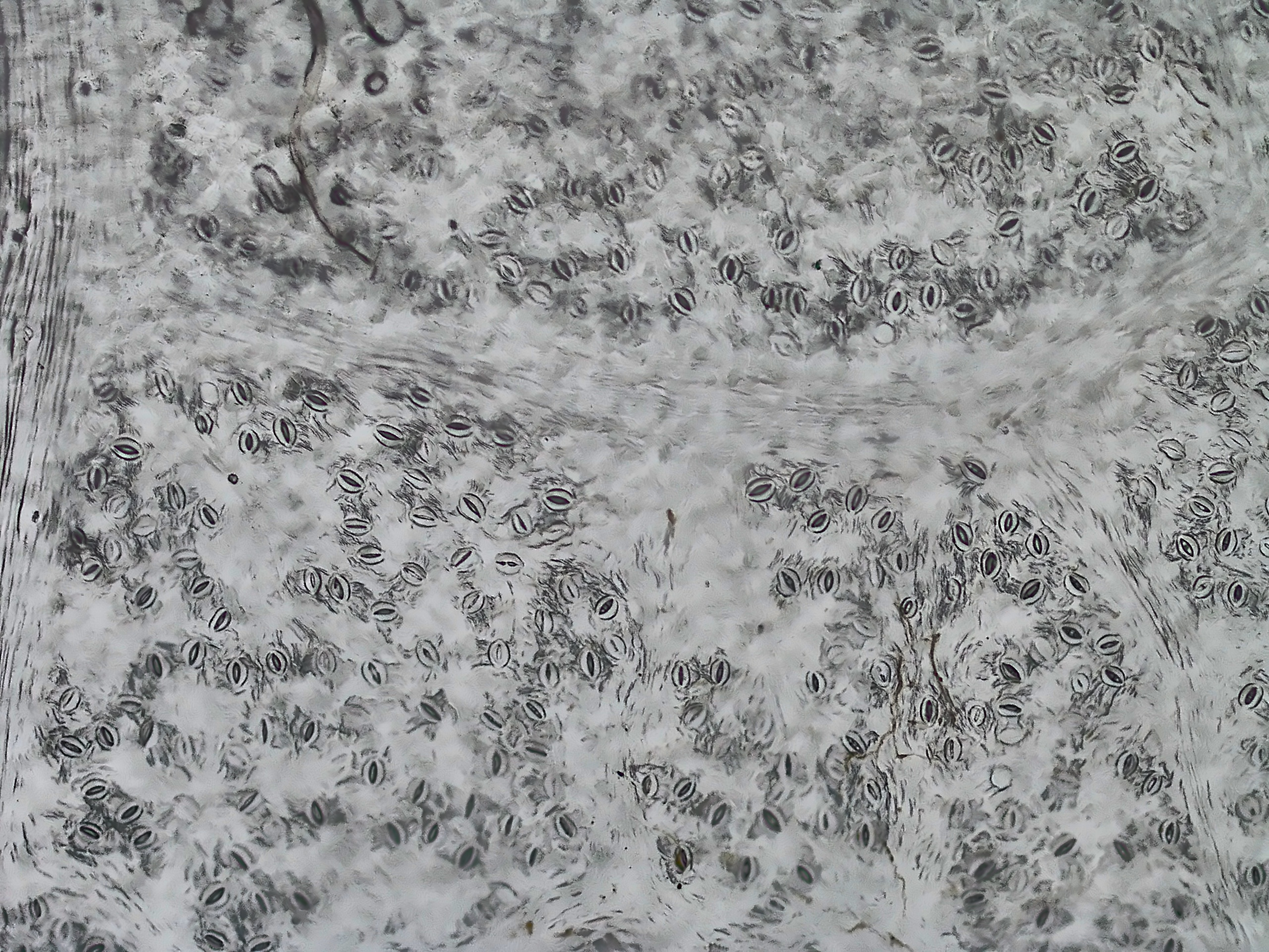stomata: (1017, 900, 1064, 930), (453, 491, 489, 523), (1023, 630, 1057, 663), (302, 798, 334, 831), (772, 565, 803, 599), (188, 212, 224, 241), (518, 108, 554, 137), (757, 803, 788, 836), (414, 693, 447, 724), (198, 62, 231, 92), (150, 366, 179, 400), (221, 747, 256, 775), (702, 798, 732, 830), (744, 475, 777, 504), (197, 880, 230, 909), (1049, 833, 1083, 861), (503, 185, 534, 215), (839, 728, 869, 759), (1215, 427, 1252, 452), (451, 840, 479, 873), (272, 415, 300, 448), (615, 678, 648, 706), (515, 739, 553, 763), (1000, 139, 1026, 174), (1219, 339, 1255, 364), (404, 776, 433, 807), (192, 929, 231, 952), (929, 134, 961, 162), (774, 224, 801, 257), (1024, 529, 1051, 562), (867, 657, 894, 690), (94, 720, 121, 753), (371, 421, 404, 448), (597, 632, 630, 659), (850, 192, 876, 226), (550, 252, 580, 281), (667, 286, 696, 316), (929, 238, 959, 267), (724, 64, 753, 94), (718, 253, 746, 284), (378, 817, 406, 848), (607, 240, 631, 276), (492, 549, 524, 576), (535, 656, 559, 692), (433, 273, 460, 305), (112, 799, 145, 825), (334, 468, 367, 494), (735, 853, 758, 890), (441, 414, 478, 437), (980, 82, 1014, 107), (473, 224, 507, 249), (413, 638, 442, 667), (407, 90, 436, 119), (247, 189, 276, 218), (996, 209, 1026, 237), (1173, 359, 1201, 389), (367, 599, 402, 623), (313, 648, 343, 676), (996, 658, 1027, 685), (397, 560, 429, 586), (826, 315, 849, 351), (540, 489, 576, 512), (1139, 29, 1164, 62), (951, 520, 976, 553), (78, 775, 111, 800), (285, 889, 318, 914), (950, 297, 984, 321), (911, 38, 945, 62), (671, 843, 695, 877), (487, 423, 521, 447), (416, 153, 440, 187), (1175, 533, 1203, 562), (249, 714, 277, 743), (325, 573, 352, 603), (863, 558, 890, 588), (958, 458, 989, 484), (843, 483, 869, 514), (55, 734, 86, 760), (181, 637, 207, 668), (952, 8, 978, 39), (941, 575, 967, 606), (884, 285, 909, 317), (979, 548, 1003, 581), (482, 743, 506, 776), (165, 480, 189, 513), (766, 335, 799, 359), (645, 71, 669, 104), (877, 4, 905, 32), (498, 256, 525, 285), (871, 505, 898, 534), (802, 669, 829, 698), (488, 637, 511, 671), (1062, 571, 1092, 597), (1110, 139, 1141, 164), (232, 793, 267, 815), (145, 650, 169, 682), (299, 388, 331, 412), (851, 272, 871, 310), (643, 157, 666, 190), (1207, 462, 1240, 485), (1055, 621, 1088, 644), (1031, 120, 1059, 147), (1236, 683, 1264, 710), (788, 466, 816, 493), (967, 856, 995, 883), (595, 593, 623, 620), (360, 758, 387, 786), (48, 920, 76, 947), (887, 243, 913, 272), (1102, 215, 1131, 241), (750, 713, 776, 742), (1077, 187, 1102, 217), (708, 657, 733, 687), (578, 649, 603, 679), (188, 573, 218, 598), (922, 280, 944, 314), (111, 691, 145, 713), (1115, 749, 1139, 780), (402, 387, 433, 411), (1001, 721, 1032, 745), (1155, 438, 1187, 461), (523, 844, 546, 876), (520, 697, 547, 724), (360, 659, 388, 685), (72, 821, 105, 843), (110, 437, 143, 459), (526, 281, 555, 306), (602, 181, 627, 210), (508, 507, 533, 536), (554, 813, 579, 842), (1098, 665, 1128, 689), (58, 684, 82, 714), (854, 614, 884, 638), (1215, 526, 1238, 557), (225, 657, 248, 688), (230, 374, 253, 405), (1003, 805, 1026, 836), (450, 544, 476, 571), (977, 263, 1002, 291), (1190, 575, 1218, 600), (996, 508, 1021, 536), (461, 588, 486, 616), (1000, 38, 1028, 63), (1188, 494, 1217, 518), (187, 411, 216, 435), (225, 846, 254, 870), (678, 703, 707, 727), (394, 269, 423, 293), (1095, 633, 1125, 656), (497, 810, 520, 840), (90, 381, 120, 404), (677, 227, 699, 258), (959, 888, 990, 910), (532, 607, 554, 638), (993, 697, 1027, 717), (263, 649, 289, 675), (1193, 314, 1220, 339), (1018, 578, 1045, 603), (1111, 837, 1136, 864), (131, 513, 158, 538), (600, 120, 627, 145), (659, 110, 686, 135), (705, 163, 730, 190), (669, 661, 693, 689), (171, 549, 203, 570), (777, 753, 801, 781), (473, 81, 497, 109), (817, 567, 840, 596), (238, 428, 261, 457), (401, 468, 436, 487), (787, 287, 809, 317), (27, 894, 47, 927), (407, 506, 438, 527), (1102, 2, 1133, 23), (636, 772, 661, 798), (557, 578, 583, 603), (135, 721, 161, 746), (1049, 57, 1074, 83), (479, 708, 506, 732), (208, 605, 232, 632), (133, 583, 157, 610), (246, 891, 270, 918), (673, 775, 696, 803), (1227, 580, 1249, 609), (420, 818, 442, 847), (918, 695, 939, 725), (301, 566, 322, 596), (807, 507, 831, 533), (130, 826, 158, 848), (412, 57, 446, 75), (1160, 817, 1181, 846), (238, 234, 259, 263), (106, 496, 135, 517), (717, 105, 746, 126), (738, 149, 767, 170), (357, 544, 387, 564), (172, 736, 197, 760), (1092, 54, 1116, 79), (1135, 476, 1159, 501), (338, 518, 373, 535), (889, 548, 911, 575), (100, 537, 122, 564), (160, 767, 193, 785), (942, 736, 963, 764), (861, 777, 882, 805), (856, 819, 876, 848), (299, 716, 319, 745), (541, 523, 570, 543), (619, 299, 639, 328), (198, 503, 222, 527), (80, 557, 104, 581), (1136, 175, 1159, 200), (1211, 390, 1236, 413), (793, 862, 816, 887), (815, 810, 837, 836), (1142, 770, 1165, 794), (966, 705, 989, 729), (375, 221, 399, 244), (330, 184, 353, 208), (973, 154, 992, 183), (1245, 863, 1267, 888), (68, 524, 90, 549), (87, 464, 108, 490), (799, 44, 820, 70), (269, 60, 297, 79), (1070, 671, 1092, 695), (565, 177, 585, 203), (679, 81, 702, 103), (1107, 85, 1135, 103), (91, 355, 118, 373), (761, 284, 781, 308), (1249, 294, 1269, 317), (897, 595, 917, 618), (565, 297, 585, 318), (826, 651, 850, 668), (763, 74, 778, 98)
